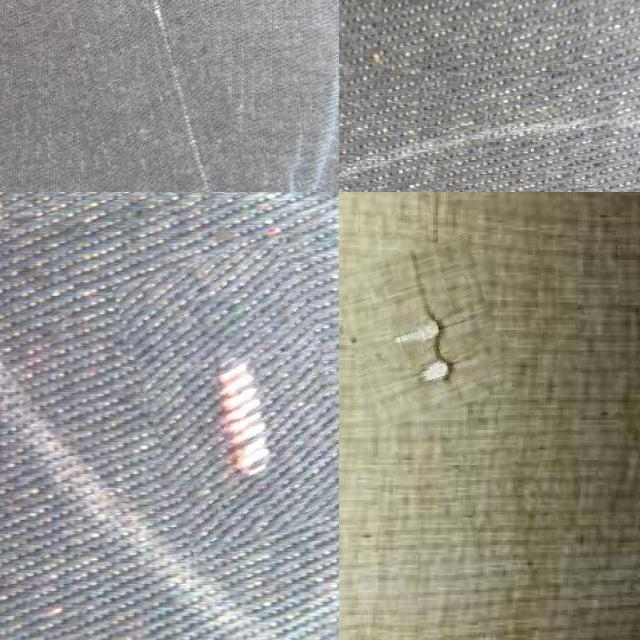other: (340, 242, 502, 422)
stains: (129, 245, 339, 547)
